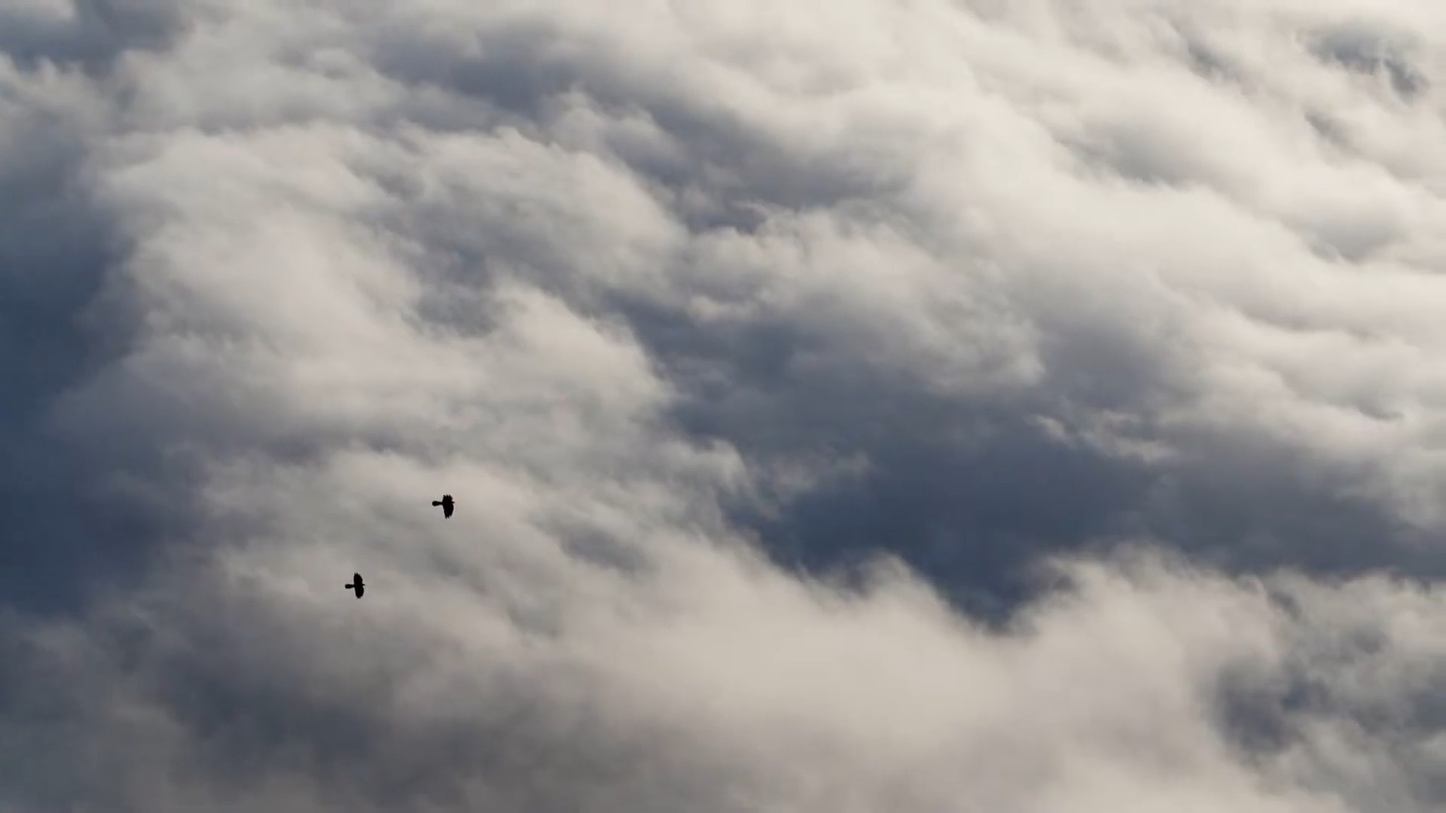not_drone: (328, 563, 393, 608), (422, 488, 465, 525)
